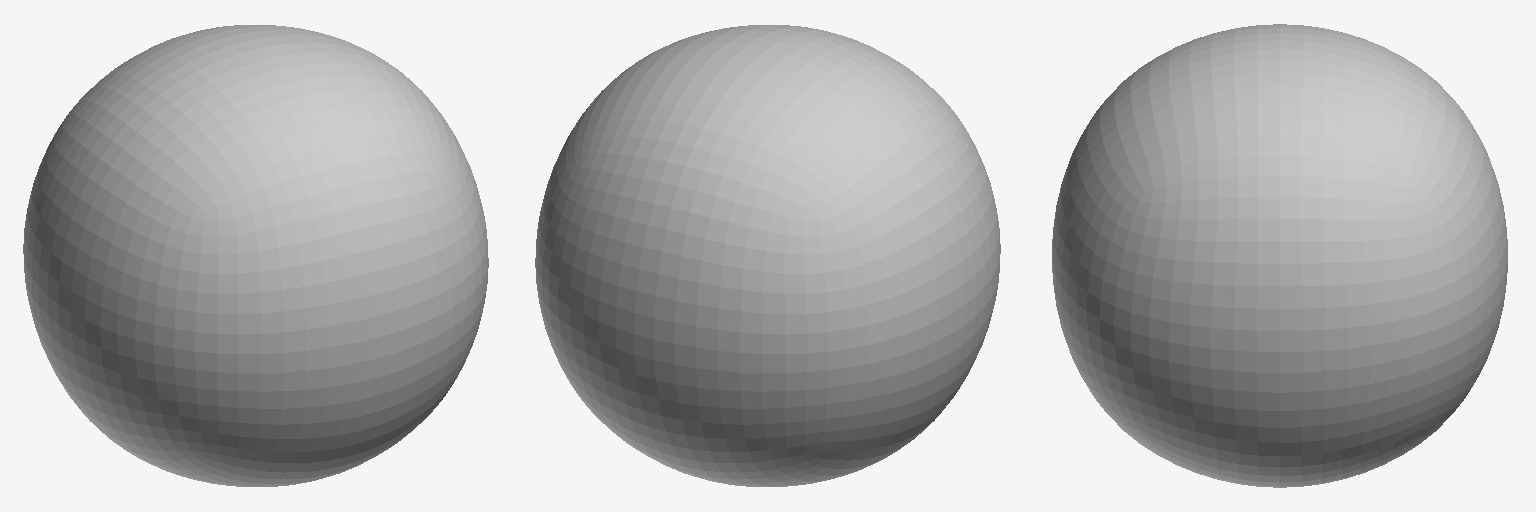
File: skybox.obj
3 views of the same model, side by side, from view 1: azimuth 30°, elevation 25°; view 2: azimuth 150°, elevation 25°; view 3: azimuth 270°, elevation 25° (orthographic).
Visible parts, largest first — view 1: skybox; view 2: skybox; view 3: skybox.
Part boxes in pixels (bbox=[...]): skybox: bbox=[23, 25, 488, 486]; skybox: bbox=[535, 25, 1000, 486]; skybox: bbox=[1052, 24, 1507, 487].
Size of the model in its own units: 102 by 102 by 102.